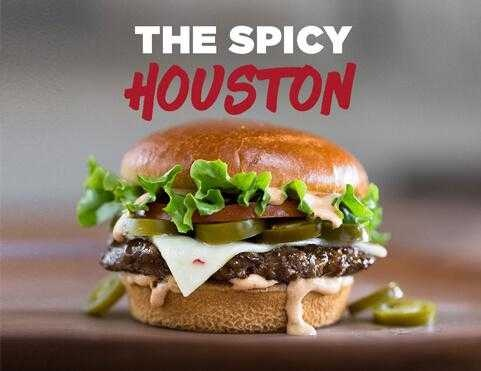hamburger: (98, 133, 374, 330)
